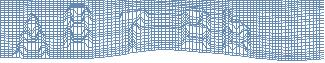7: (117, 8, 150, 55)
8: (62, 2, 95, 50)
A: (11, 12, 50, 59)
B: (182, 6, 213, 53)
b: (221, 7, 251, 56)
